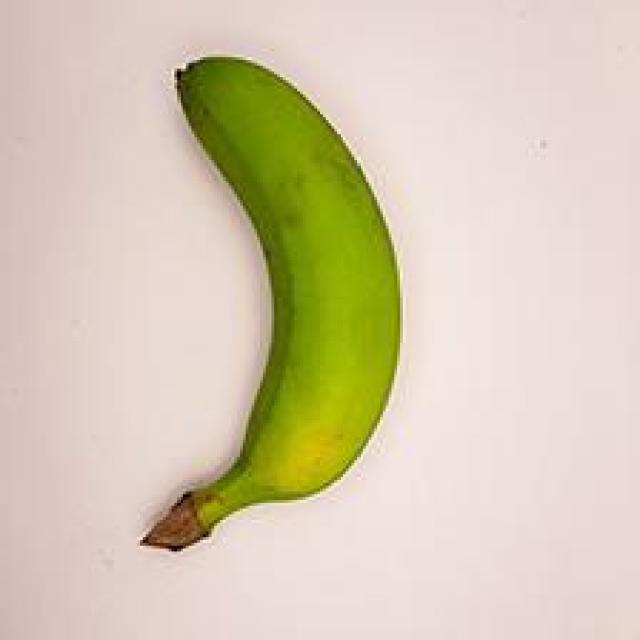Unripe: (117, 56, 423, 560)
